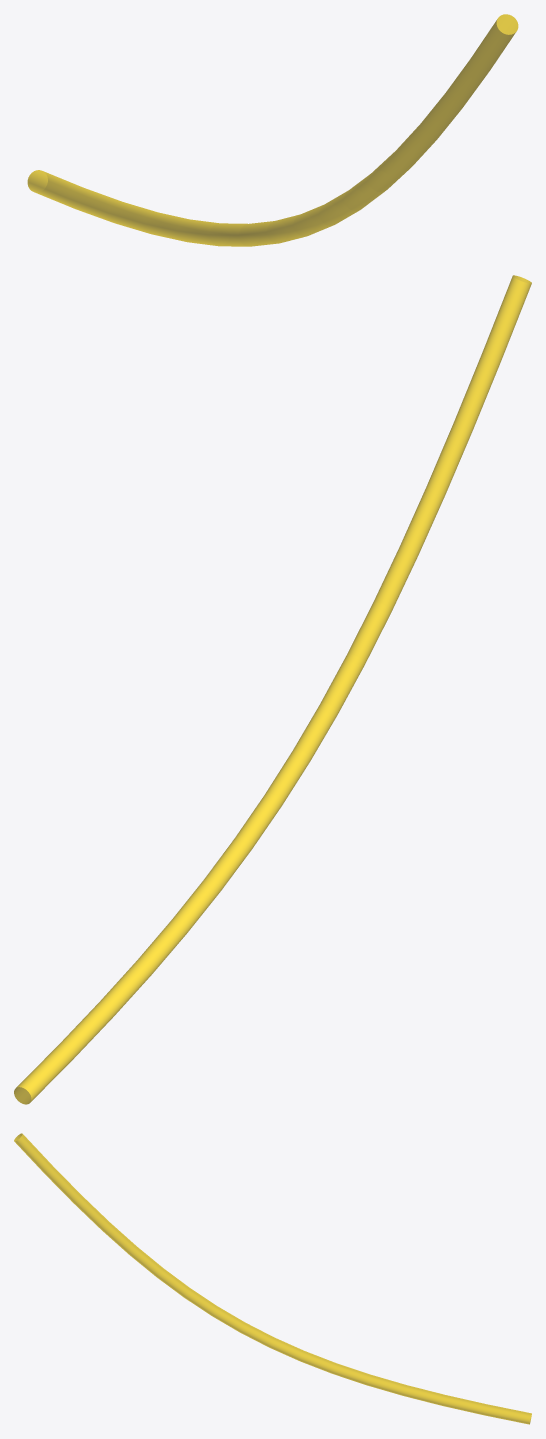
File: Event_402970704_track_33.fbx
3 views of the same model, one above another, from view 1: azimuth 30°, elevation 25°; view 2: azimuth 150°, elevation 25°; view 3: azimuth 270°, elevation 25° (orthographic). The views are drawn at different scales.
Visible parts, largest first — view 1: Model; view 2: Model; view 3: Model.
Boxes of the visible parts, box(x1,y1,x2,y2) form: Model: box(27, 14, 518, 246); Model: box(14, 275, 531, 1104); Model: box(14, 1133, 531, 1424).
Size of the model in its own units: 0.1258 by 1.07 by 1.8.
